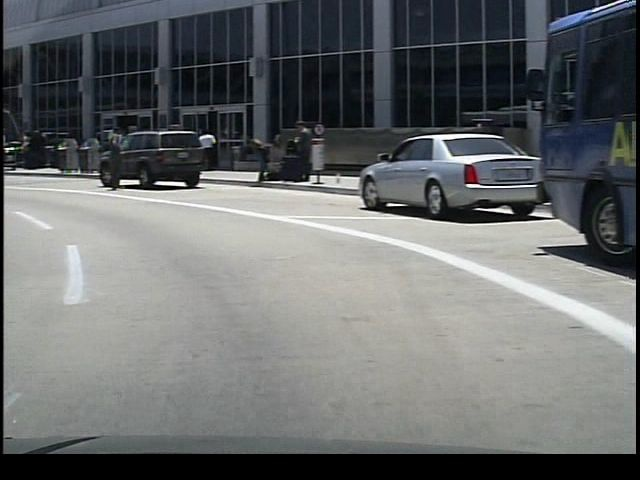person: (97, 117, 125, 198), (246, 130, 276, 184), (286, 119, 307, 185), (191, 127, 213, 172)
